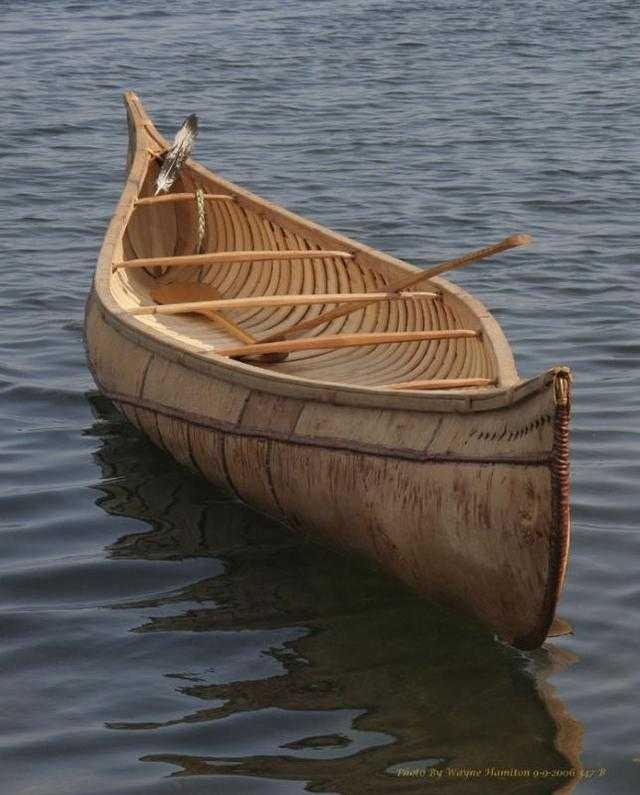kayak: (81, 91, 573, 653)
